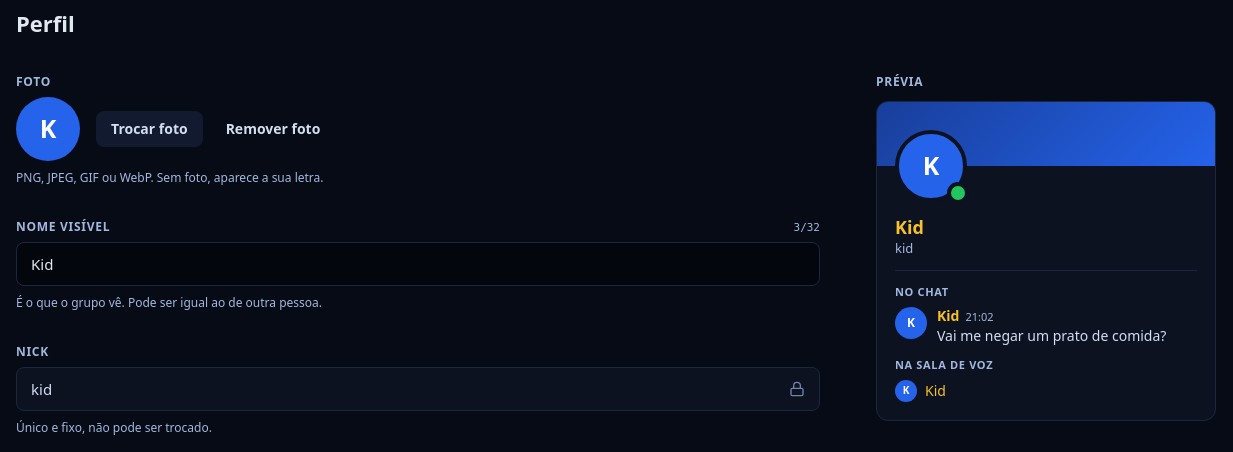
Configurações › Perfil: a foto › Remover foto tira a foto e volta a letra
Step 1. Click the button "Remover foto" → (273, 128), box [211,110,335,146]
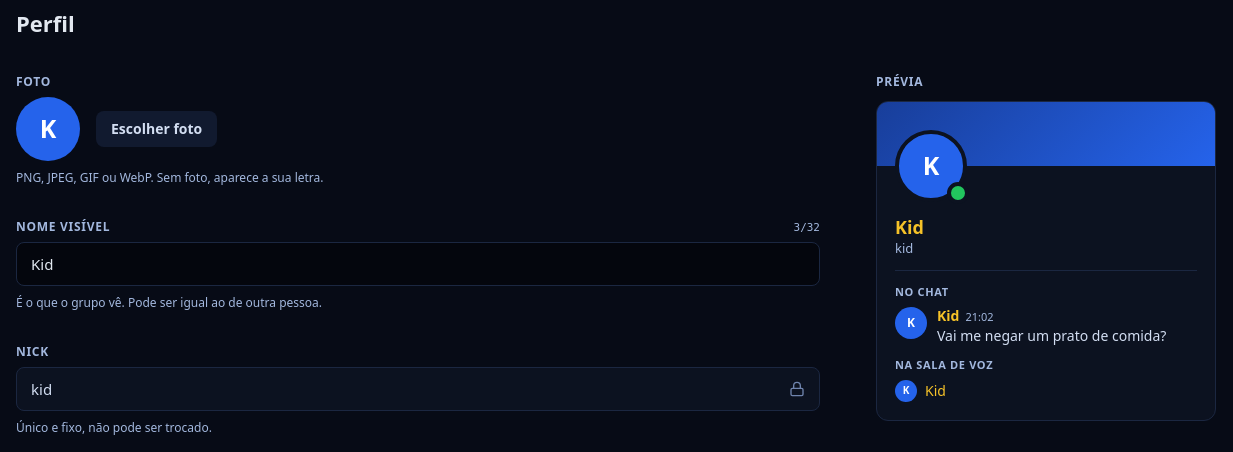
Expected: the button "Escolher foto" is shown, [96,110,217,146]
